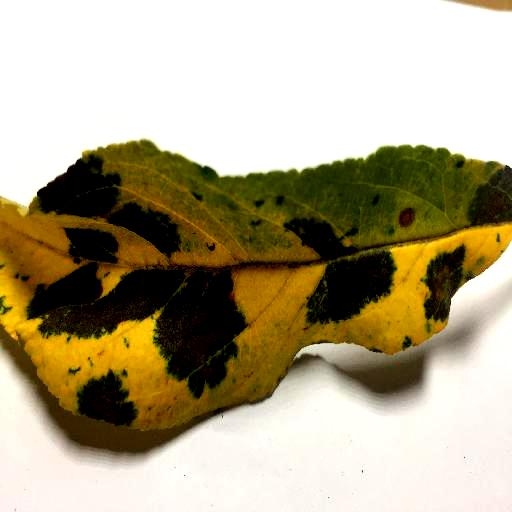Brown_Spot: (166, 270, 224, 372), (318, 256, 393, 314), (427, 257, 453, 323), (399, 209, 416, 232)
